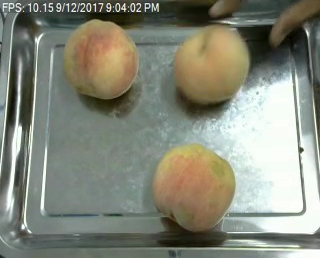Peach: (150, 143, 235, 233), (64, 18, 139, 99), (173, 25, 249, 103)
